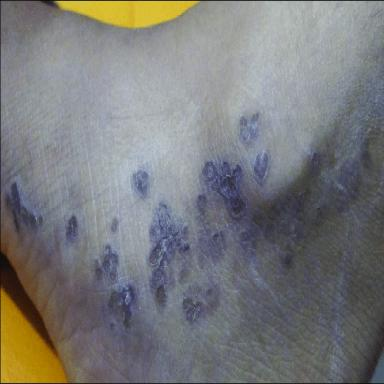Porokeratosis: (311, 128, 370, 225), (149, 202, 198, 305), (94, 244, 137, 328), (265, 194, 303, 266), (203, 161, 245, 217), (196, 195, 226, 269), (6, 182, 43, 232), (183, 284, 219, 323), (240, 222, 259, 265), (240, 113, 259, 144), (253, 153, 270, 185), (133, 170, 148, 197), (66, 215, 78, 241), (110, 216, 119, 233)
